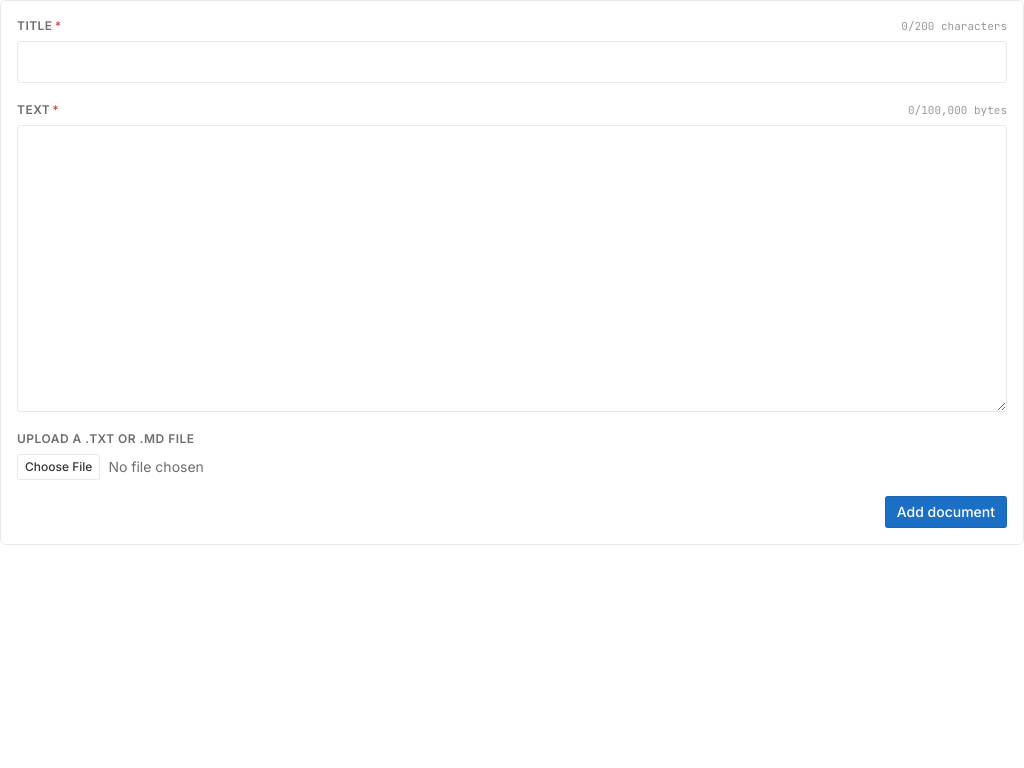
Test: DocumentForm › clears the complaint as soon as the field is filled in
Type "Some text" into the text box labelled "Text".
click(512, 268); type("Some text")  # box top-left (17, 125), bottom-right (1007, 412)
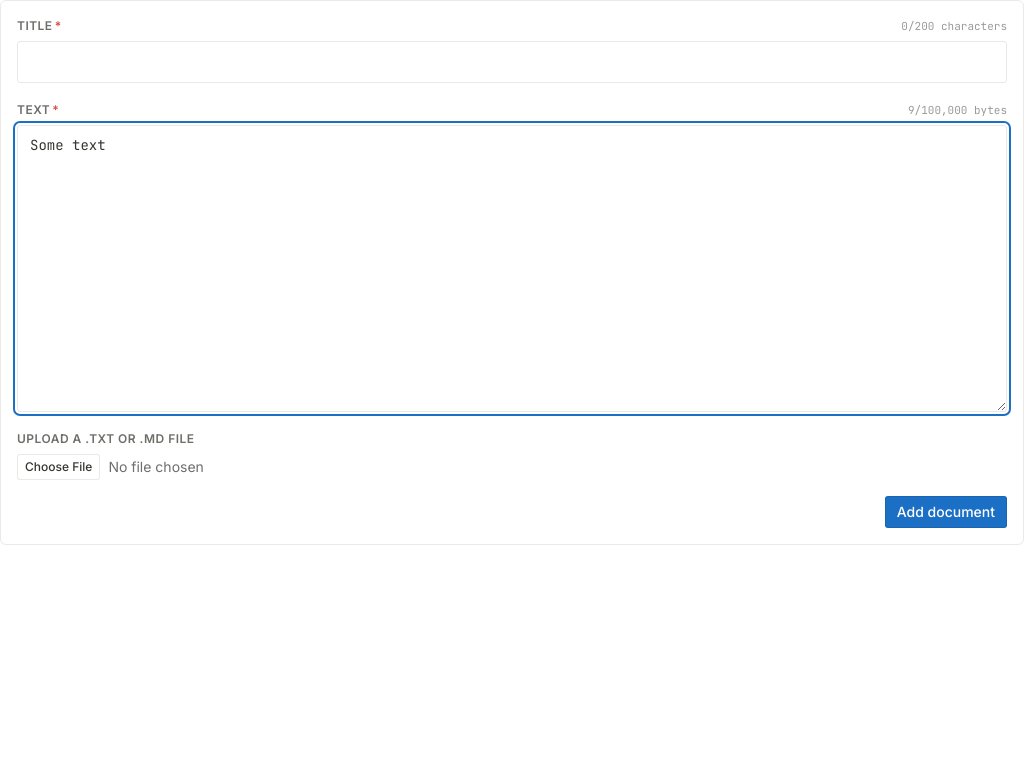
Click the button "Add document".
click(946, 512)  # box top-left (885, 496), bottom-right (1007, 528)
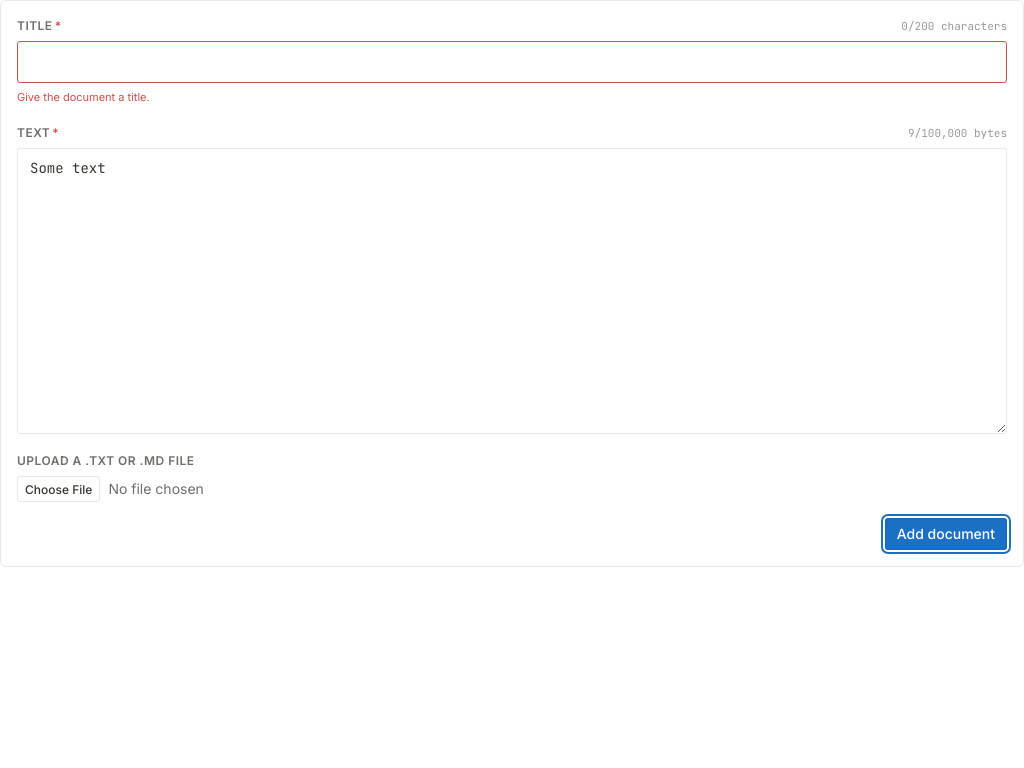
Check: the message "Give the document a title." is shown, box top-left (17, 90), bottom-right (150, 104)
Type "A title" into the field labelled "Title".
click(512, 62); type("A title")  # box top-left (17, 41), bottom-right (1007, 83)
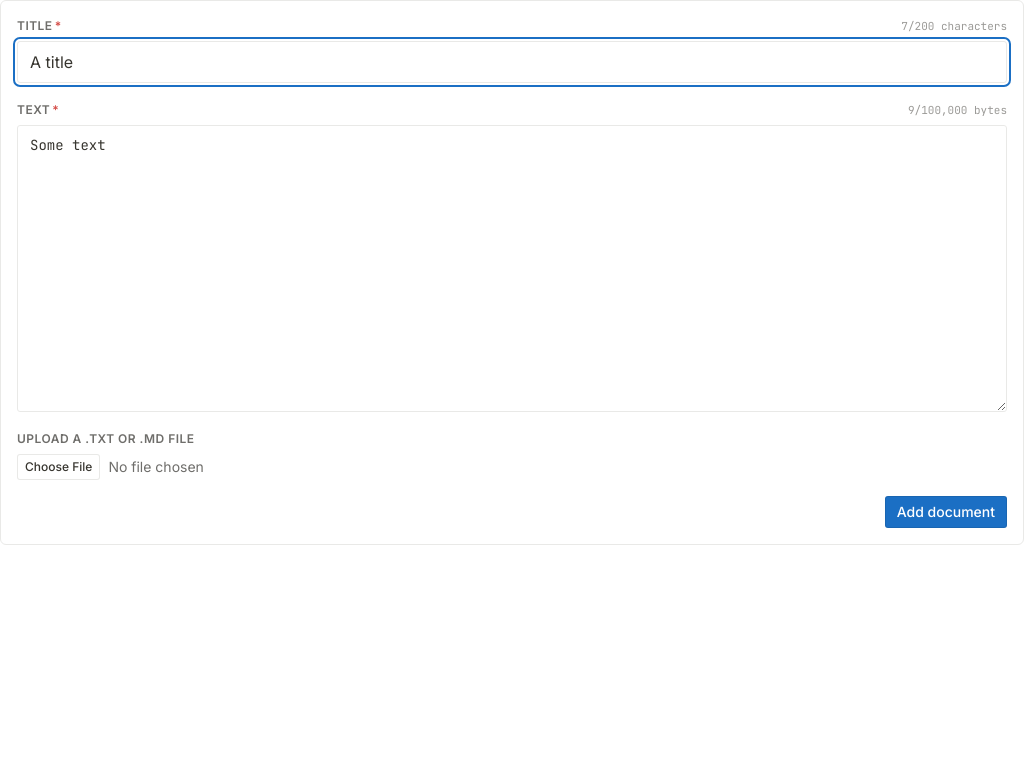
Check: the message "Give the document a title." is gone
